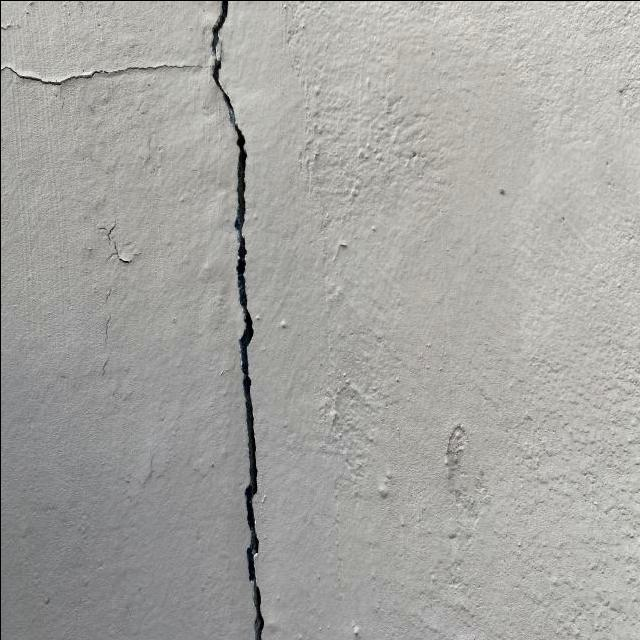SurfaceCrack: (163, 1, 300, 640), (0, 2, 195, 112)
